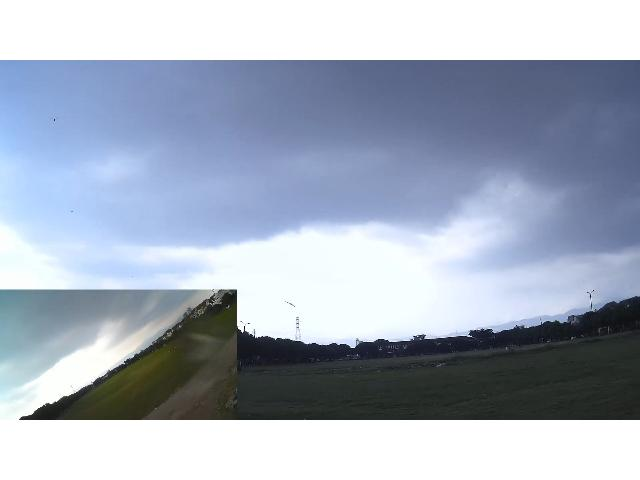Anti-Drone: (279, 296, 297, 314)
